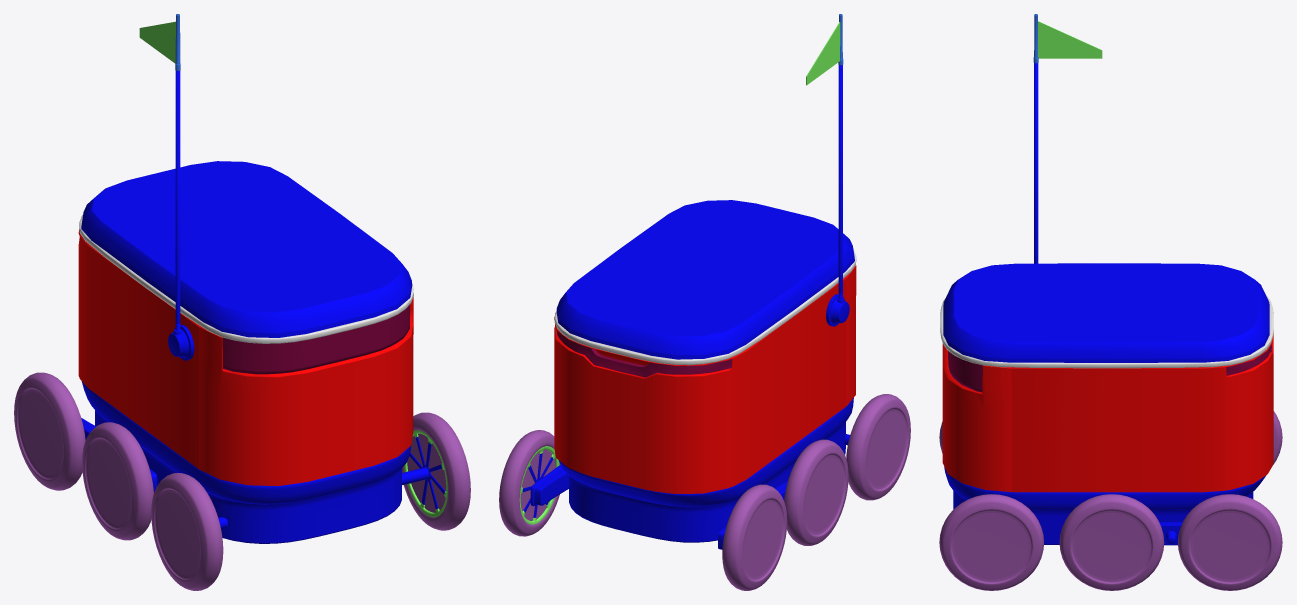
The model's file is F_DeliveryRobot_01.fbx.
The picture shows the model from 3 angles, left to right: view 1: azimuth 30°, elevation 25°; view 2: azimuth 150°, elevation 25°; view 3: azimuth 270°, elevation 25°; orthographic projection. The views are drawn at different scales.
Parts seen in each view (by area): view 1: DeliveryRobotBody_01, RobotBody_01, Wheel_01, Wheel_02, Wheel_03, Glass_01, Cap_02, Wheel_04; view 2: DeliveryRobotBody_01, RobotBody_01, Wheel_03, Wheel_01, Wheel_02, Cap_02, Glass_05, Wheel_04; view 3: RobotBody_01, DeliveryRobotBody_01, Wheel_03, Wheel_01, Wheel_02, Cap_02, Wheel_04, Glass_01.
Boxes of the visible parts, x1,y1,x2,y2 form: DeliveryRobotBody_01: (81, 70, 445, 543); RobotBody_01: (78, 229, 413, 485); Wheel_01: (151, 412, 470, 590); Wheel_02: (82, 422, 153, 540); Wheel_03: (14, 372, 85, 490); Glass_01: (222, 305, 409, 374); Cap_02: (79, 215, 413, 343); Wheel_04: (139, 21, 447, 517); DeliveryRobotBody_01: (522, 65, 854, 549); RobotBody_01: (554, 265, 856, 493); Wheel_03: (499, 430, 787, 590); Wheel_01: (846, 394, 910, 500); Wheel_02: (784, 439, 848, 545); Cap_02: (554, 249, 856, 365); Glass_05: (556, 330, 731, 377); Wheel_04: (519, 22, 840, 524); RobotBody_01: (942, 333, 1273, 492); DeliveryRobotBody_01: (943, 63, 1269, 545); Wheel_03: (1178, 411, 1282, 590); Wheel_01: (939, 421, 1043, 590); Wheel_02: (1059, 494, 1164, 590); Cap_02: (940, 295, 1273, 368); Wheel_04: (1038, 21, 1102, 58); Glass_01: (948, 351, 983, 392).
Size of the model in its own units: 0.6771 by 1.33 by 0.8646.
